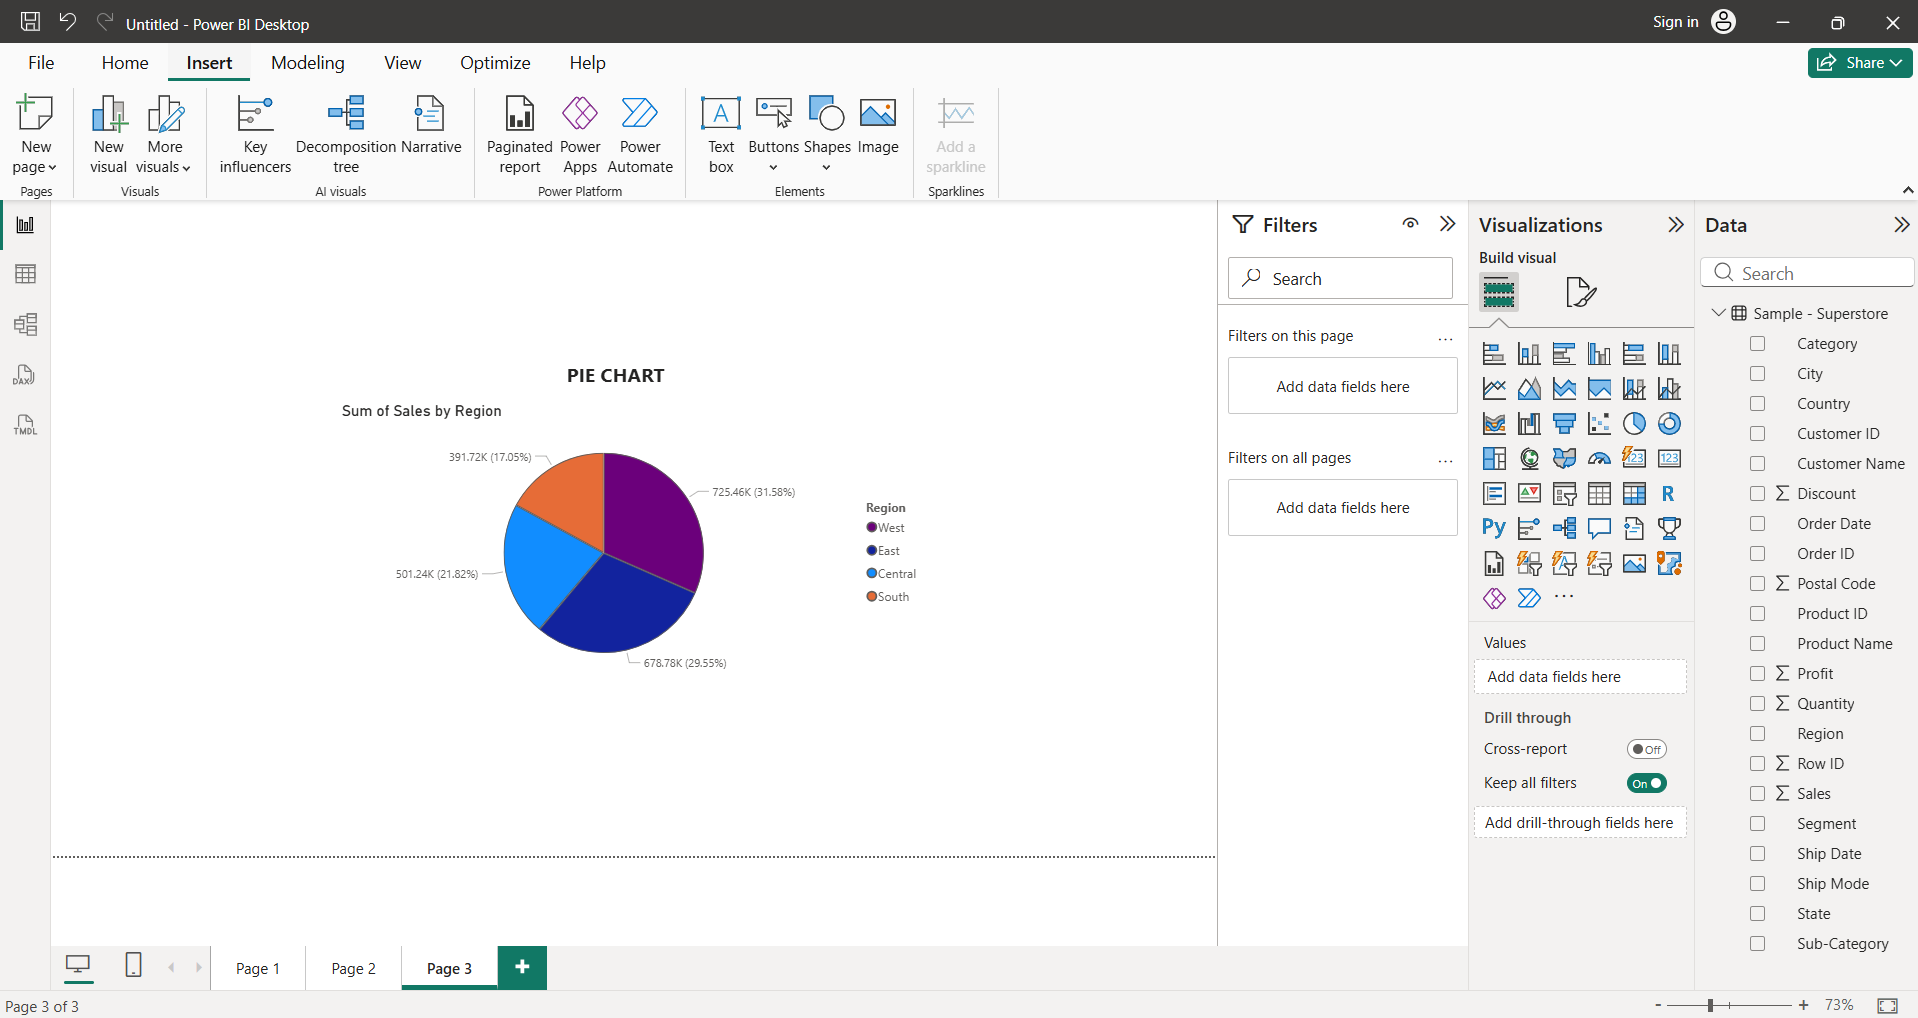

The dashboard page shown, as its layout file describes it:
{"tool":"powerbi","page":{"name":"Page 4","canvas":[1280,720],"ordinal":3},"visuals":[{"type":"pieChart","fields":{"Category":["Sample - Superstore.Region"],"Y":["Sum(Sample - Superstore.Sales)"]},"box":[274.6,233.8,721.1,380.3],"z":0},{"type":"textbox","box":[571.8,95.8,605.6,149.3],"z":1000}]}

Visuals, with their boxes on the page's 1280x720 design canvas (x1, y1, x2, y2). These are canvas units, not pixel positions in the 1918x1018 screenshot, which may show the page scaled, cropped or inside an application window:
pieChart - Sample - Superstore.Region x Sum(Sample - Superstore.Sales): locate(275, 234, 996, 614)
textbox: locate(572, 96, 1177, 245)
